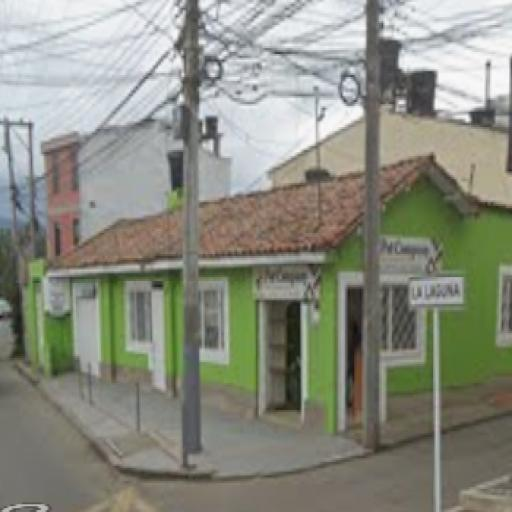poste: (178, 2, 205, 465), (363, 2, 384, 452), (22, 120, 39, 263)
